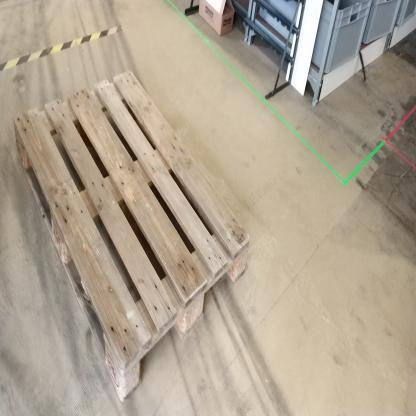BoxFace: (11, 62, 255, 409)
